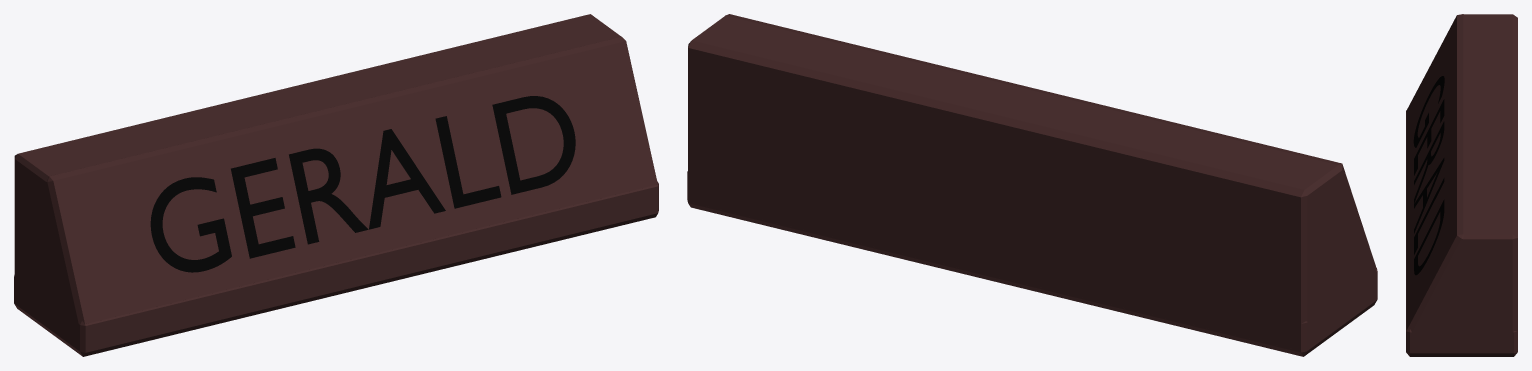
File: GeraldNamePlate.fbx
3 views of the same model, side by side, from view 1: azimuth 30°, elevation 25°; view 2: azimuth 150°, elevation 25°; view 3: azimuth 270°, elevation 25° (orthographic). The views are drawn at different scales.
Parts seen in each view (by area): view 1: Cube, Cube.001, Cube.002, GERALD; view 2: Cube.001, Cube, Cube.002; view 3: Cube.001, Cube, GERALD, Cube.002.
Part boxes in pixels (x1=…): Cube: x1=18, y1=36, x2=657, y2=329; Cube.001: x1=14, y1=14, x2=621, y2=325; Cube.002: x1=14, y1=181, x2=658, y2=356; GERALD: x1=150, y1=96, x2=575, y2=272; Cube.001: x1=688, y1=16, x2=1341, y2=350; Cube: x1=725, y1=14, x2=1376, y2=322; Cube.002: x1=687, y1=171, x2=1377, y2=356; Cube.001: x1=1462, y1=14, x2=1517, y2=352; Cube: x1=1407, y1=14, x2=1506, y2=352; GERALD: x1=1413, y1=76, x2=1444, y2=275; Cube.002: x1=1406, y1=110, x2=1517, y2=356.
Size of the model in its own units: 83.64 by 21.51 by 17.78.
